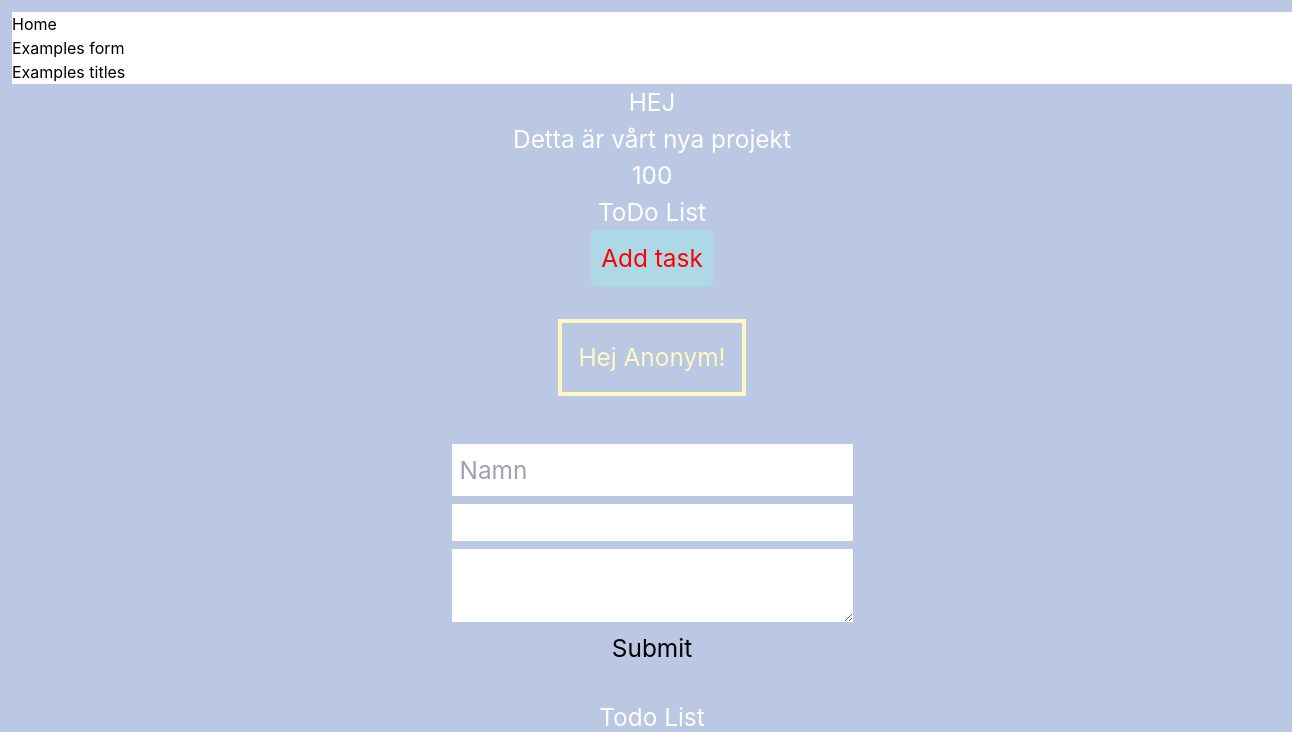
Test: FormView › should submit the form successfully
Type "Alex" into the field named "name" at (653, 471), box 452,444 -> 853,497
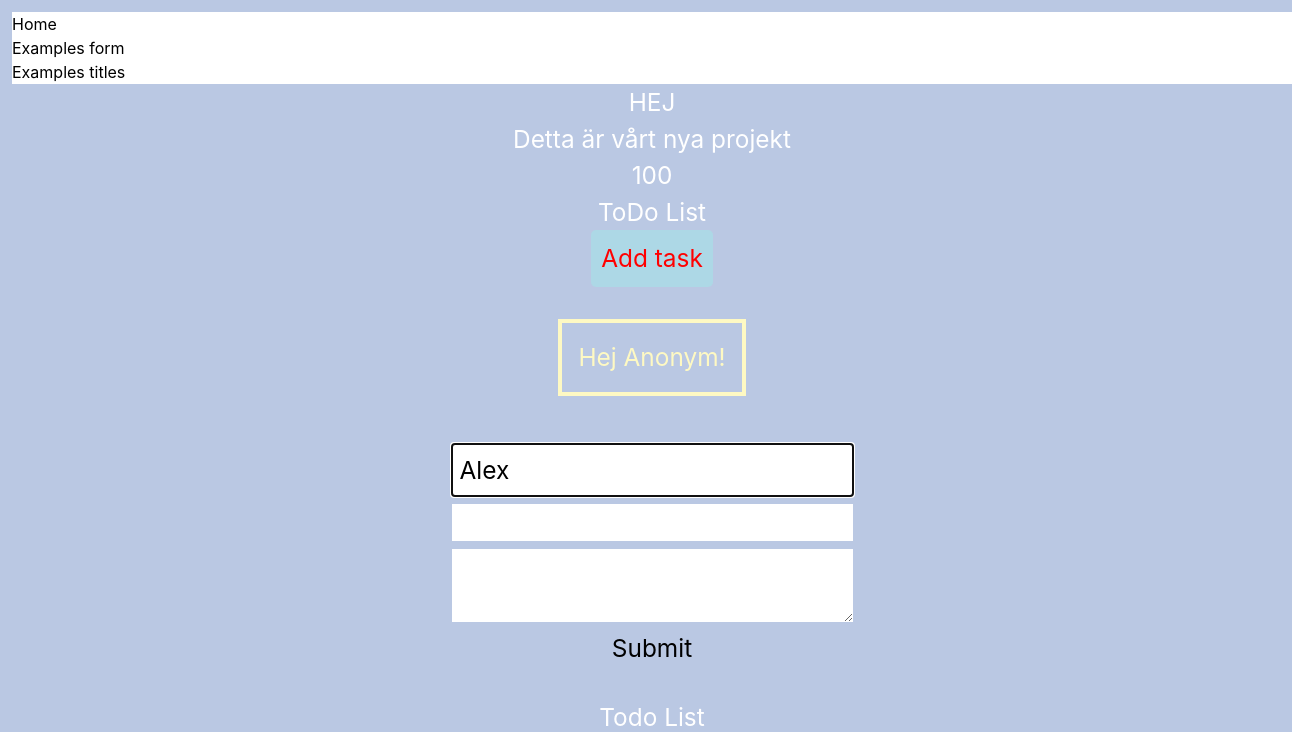
Type "alex@alex.se" into the 2nd field named "email" at (653, 523), box 452,504 -> 853,541
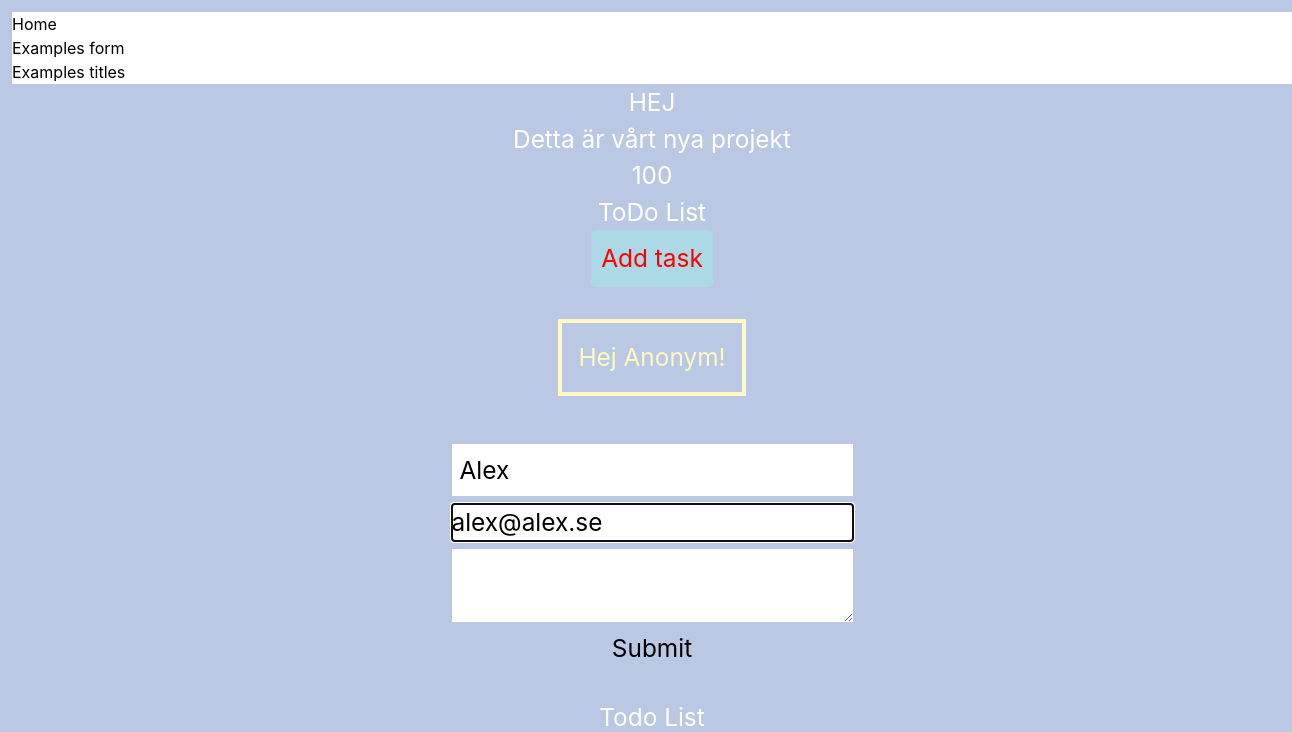
Type "Hello!" into the text box named "message" at (653, 586), box 452,549 -> 853,622
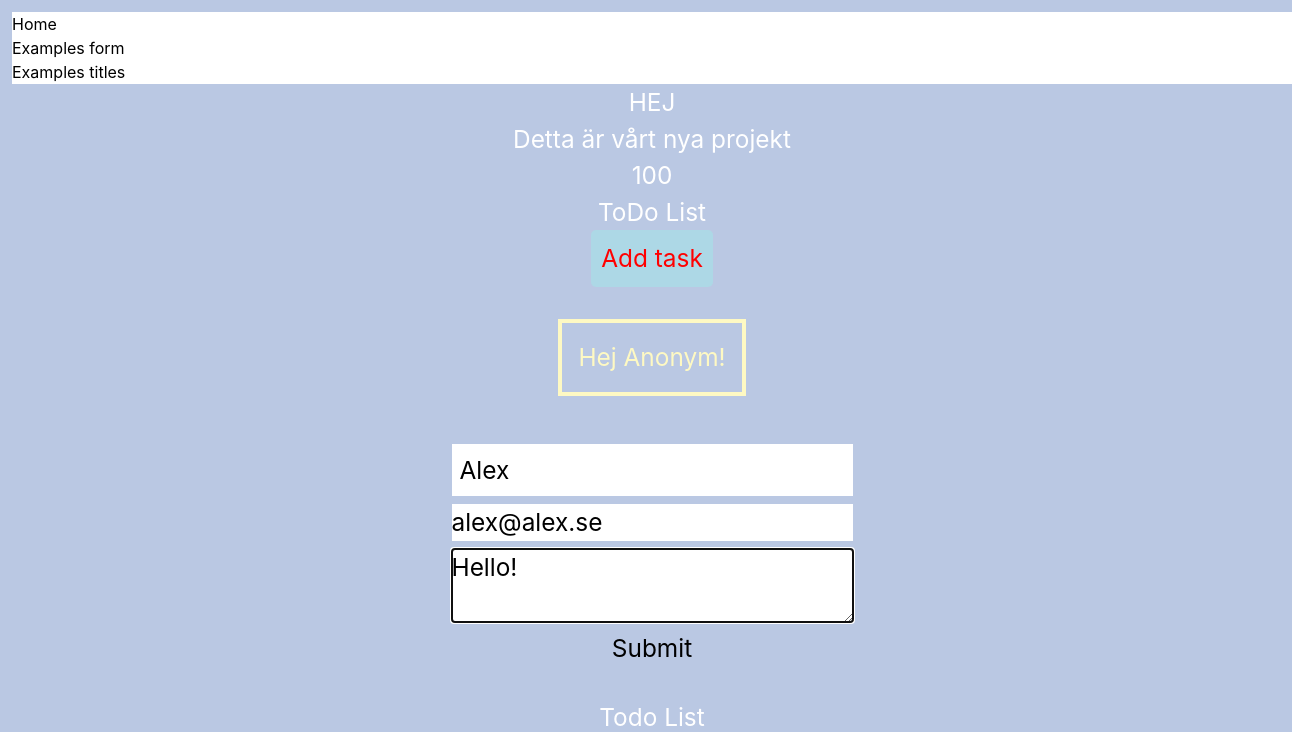
Submit the form, box 452,444 -> 853,667
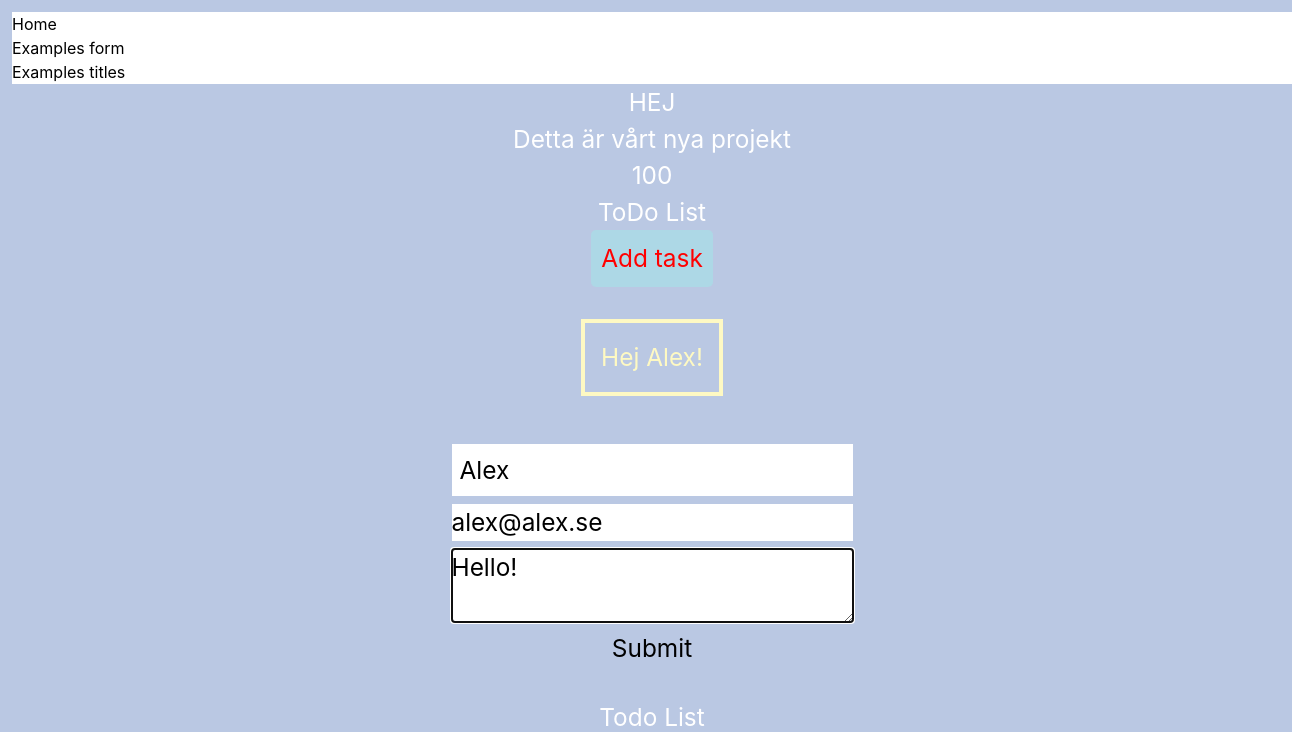
Expected: the heading "Hej Alex!" is shown, 581,319 -> 723,396
